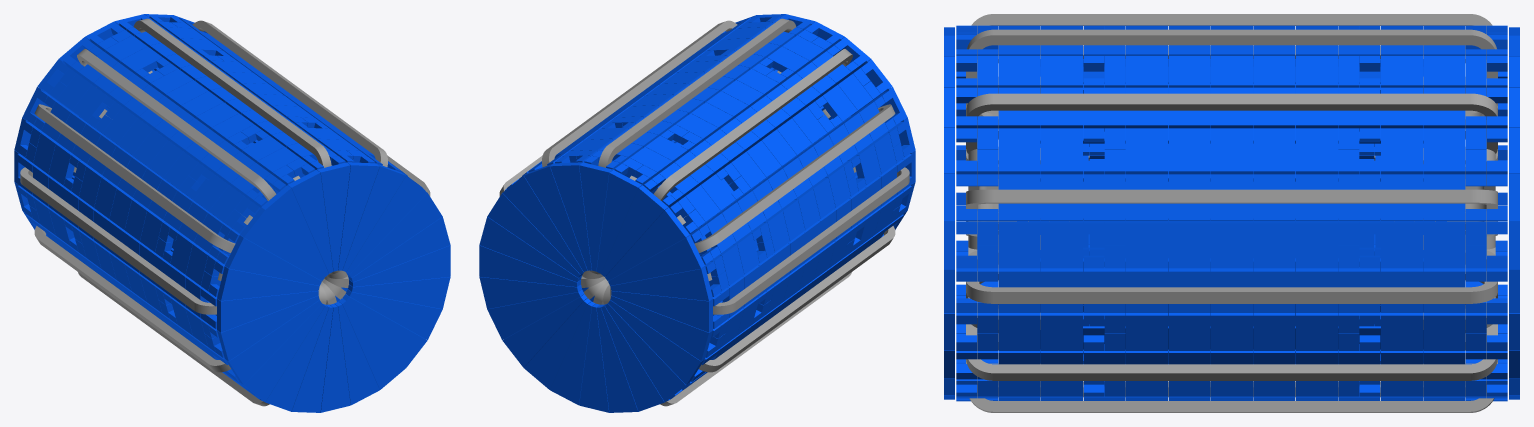
The model's file is chambers-and-coils.obj.
The picture shows the model from 3 angles, left to right: view 1: azimuth 30°, elevation 25°; view 2: azimuth 150°, elevation 25°; view 3: azimuth 270°, elevation 25°; orthographic projection. The views are drawn at different scales.
Visible parts, largest first — view 1: coil_barrel_06, coil_barrel_03, coil_barrel_04, coil_barrel_05, coil_barrel_07, coil_barrel_02, chamber_EP3_REFINED_FULL_S10, chamber_EP3_REFINED_FULL_S11, chamber_EP3_REFINED_FULL_S08, chamber_EP3_REFINED_FULL_S07, chamber_EP3_REFINED_FULL_S09, chamber_EP3_REFINED_FULL_S06 (+70 smaller); view 2: coil_barrel_06, coil_barrel_03, coil_barrel_04, coil_barrel_05, coil_barrel_07, coil_barrel_02, chamber_EM3_REFINED_FULL_S10, chamber_EM3_REFINED_FULL_S11, chamber_EM3_REFINED_FULL_S08, chamber_EM3_REFINED_FULL_S07, chamber_EM3_REFINED_FULL_S09, chamber_EM3_REFINED_FULL_S06 (+70 smaller); view 3: coil_barrel_02, coil_barrel_03, coil_barrel_00, coil_barrel_11, coil_barrel_01, coil_barrel_10, coil_barrel_04, chamber_B3_F01_Z01, chamber_B3_F01_Z05, chamber_B3_F01_Z07, chamber_B3_F01_Z11, chamber_B3_F03_Z01 (+102 smaller).
Part boxes in pixels (<box>): coil_barrel_06: <box>20,167,216,314</box>; coil_barrel_03: <box>133,18,331,167</box>; coil_barrel_04: <box>77,49,276,200</box>; coil_barrel_05: <box>34,104,235,252</box>; coil_barrel_07: <box>34,226,230,372</box>; coil_barrel_02: <box>192,20,387,166</box>; chamber_EP3_REFINED_FULL_S10: <box>225,235,321,285</box>; chamber_EP3_REFINED_FULL_S11: <box>217,266,319,300</box>; chamber_EP3_REFINED_FULL_S08: <box>261,185,328,276</box>; chamber_EP3_REFINED_FULL_S07: <box>288,170,333,273</box>; chamber_EP3_REFINED_FULL_S09: <box>240,207,324,280</box>; chamber_EP3_REFINED_FULL_S06: <box>317,162,350,271</box>; coil_barrel_06: <box>713,167,909,314</box>; coil_barrel_03: <box>598,18,796,167</box>; coil_barrel_04: <box>653,49,852,200</box>; coil_barrel_05: <box>694,104,895,252</box>; coil_barrel_07: <box>699,226,895,372</box>; coil_barrel_02: <box>542,20,737,166</box>; chamber_EM3_REFINED_FULL_S10: <box>608,235,704,285</box>; chamber_EM3_REFINED_FULL_S11: <box>610,266,712,300</box>; chamber_EM3_REFINED_FULL_S08: <box>601,185,668,276</box>; chamber_EM3_REFINED_FULL_S07: <box>596,170,641,273</box>; chamber_EM3_REFINED_FULL_S09: <box>605,207,689,280</box>; chamber_EM3_REFINED_FULL_S06: <box>579,162,612,271</box>; coil_barrel_02: <box>966,93,1497,160</box>; coil_barrel_03: <box>966,29,1497,128</box>; coil_barrel_00: <box>966,250,1497,303</box>; coil_barrel_11: <box>966,304,1497,380</box>; coil_barrel_01: <box>966,189,1497,211</box>; coil_barrel_10: <box>966,309,1497,412</box>; coil_barrel_04: <box>971,14,1492,113</box>; chamber_B3_F01_Z01: <box>1423,221,1465,268</box>; chamber_B3_F01_Z05: <box>1253,221,1295,268</box>; chamber_B3_F01_Z07: <box>1168,221,1210,268</box>; chamber_B3_F01_Z11: <box>998,221,1040,268</box>; chamber_B3_F03_Z01: <box>1423,128,1465,174</box>.
Size of the model in its own units: 18.1 by 18.1 by 26.1.
